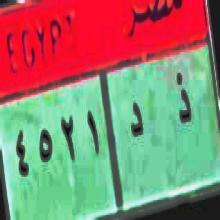1: (83, 100, 104, 160)
2: (58, 110, 77, 166)
4: (14, 124, 30, 191)
5: (37, 120, 55, 174)
daal: (127, 92, 144, 148)
zaal: (171, 68, 193, 133)
